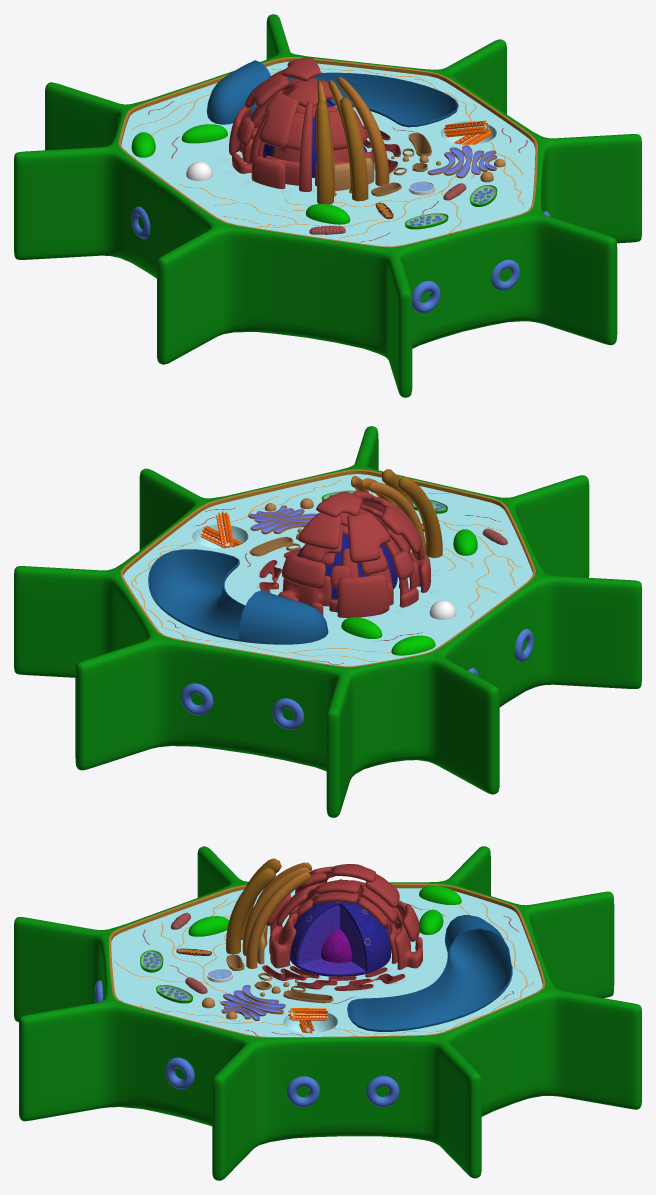
The model's file is cell2.glb.
3 renders of one model, top to bottom at view 1: azimuth 30°, elevation 25°; view 2: azimuth 150°, elevation 25°; view 3: azimuth 270°, elevation 25°, orthographic. The views are drawn at different scales.
Parts seen in each view (by area): view 1: Box008, Object029_Material #2612_0, Object011_19 - Default_0, Box021, Object014_14 - Default_0, Object028_07 - Default_0, Object015_15 - Default_0, Bitki, golgi sivisi, Golgi cisimcigi002, Box013, Box018 (+3 smaller); view 2: Box008, Object029_Material #2612_0, Object011_19 - Default_0, Box021, Object028_07 - Default_0, Object014_14 - Default_0, Object015_15 - Default_0, Golgi cisimcigi002, golgi sivisi, Sphere009, Torus006, Torus007 (+3 smaller); view 3: Box008, Object029_Material #2612_0, Box021, Object011_19 - Default_0, Object_Material #2592_0, Object028_07 - Default_0, Sphere009, Object015_15 - Default_0, Object014_14 - Default_0, Endoplazmik retikulum, Bitki, Golgi cisimcigi002 (+9 smaller).
Part boxes in pixels (<box>): Box008: <box>14,14,641,397</box>; Object029_Material #2612_0: <box>121,62,535,246</box>; Object011_19 - Default_0: <box>229,57,374,191</box>; Box021: <box>206,60,458,127</box>; Object014_14 - Default_0: <box>316,97,368,204</box>; Object028_07 - Default_0: <box>118,57,537,247</box>; Object015_15 - Default_0: <box>317,76,389,196</box>; Bitki: <box>334,133,431,196</box>; golgi sivisi: <box>428,145,496,176</box>; Golgi cisimcigi002: <box>427,145,497,178</box>; Box013: <box>181,124,227,143</box>; Box018: <box>306,204,350,224</box>; Box008: <box>14,426,641,817</box>; Object029_Material #2612_0: <box>123,474,532,666</box>; Object011_19 - Default_0: <box>278,490,430,617</box>; Box021: <box>148,549,328,644</box>; Object028_07 - Default_0: <box>120,469,535,667</box>; Object014_14 - Default_0: <box>381,469,442,558</box>; Object015_15 - Default_0: <box>351,476,425,558</box>; Golgi cisimcigi002: <box>248,505,316,534</box>; golgi sivisi: <box>248,505,316,532</box>; Sphere009: <box>297,534,397,599</box>; Torus006: <box>180,683,213,715</box>; Torus007: <box>272,698,303,729</box>; Box008: <box>14,846,641,1180</box>; Object029_Material #2612_0: <box>111,888,542,1036</box>; Box021: <box>347,915,512,1031</box>; Object011_19 - Default_0: <box>266,864,422,969</box>; Object_Material #2592_0: <box>296,903,367,975</box>; Object028_07 - Default_0: <box>108,883,545,1037</box>; Sphere009: <box>290,901,391,976</box>; Object015_15 - Default_0: <box>242,862,311,968</box>; Object014_14 - Default_0: <box>226,858,281,954</box>; Endoplazmik retikulum: <box>262,965,404,990</box>; Bitki: <box>226,925,333,1003</box>; Golgi cisimcigi002: <box>220,985,285,1020</box>.
Size of the model in its own units: 14.71 by 5.53 by 16.66.
25 materials, 6 textured.
